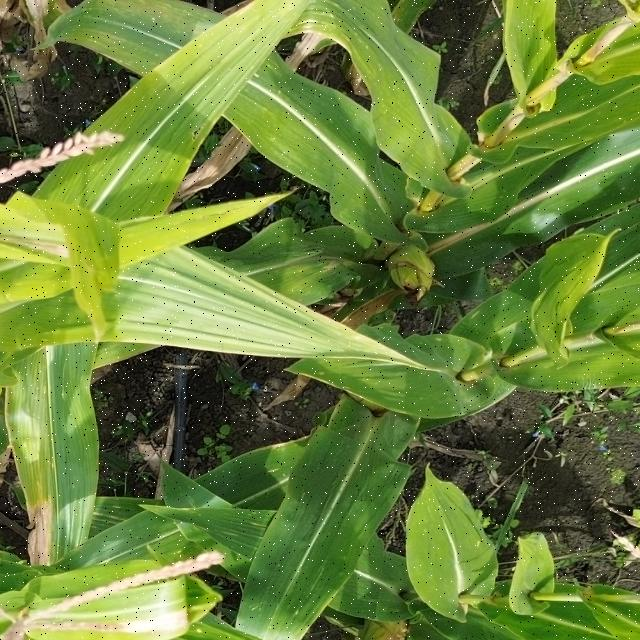gray-leaf-spot: (186, 502, 274, 551), (280, 237, 353, 284), (78, 500, 128, 534)
northern-leaf-blight: (108, 594, 203, 638), (11, 224, 92, 274)
southern-leaf-blight: (298, 0, 386, 63), (236, 59, 292, 106)
